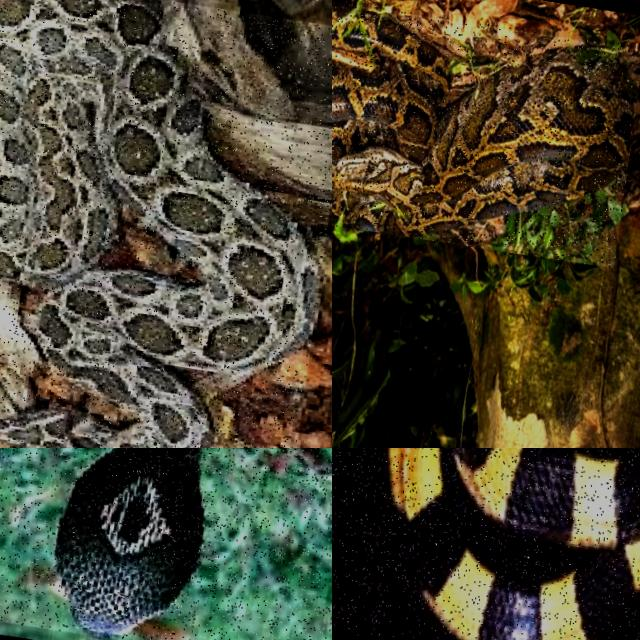Bungarus fasciatus: (388, 448, 639, 639)
Daboia siamensis: (0, 0, 319, 447)
Naja kaouthia: (56, 448, 202, 636)
Python bivittatus: (332, 2, 633, 233)
snake: (0, 0, 319, 447), (332, 2, 633, 233), (388, 448, 639, 639), (56, 448, 202, 636)
